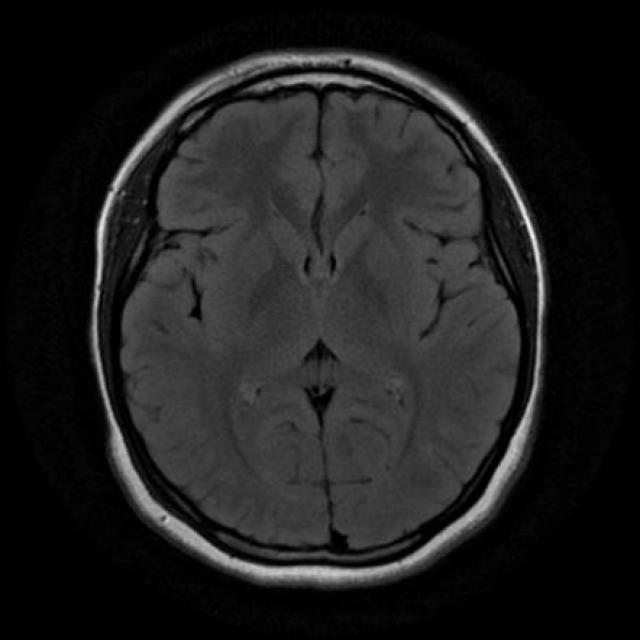No_Tumor: (89, 50, 547, 588)
